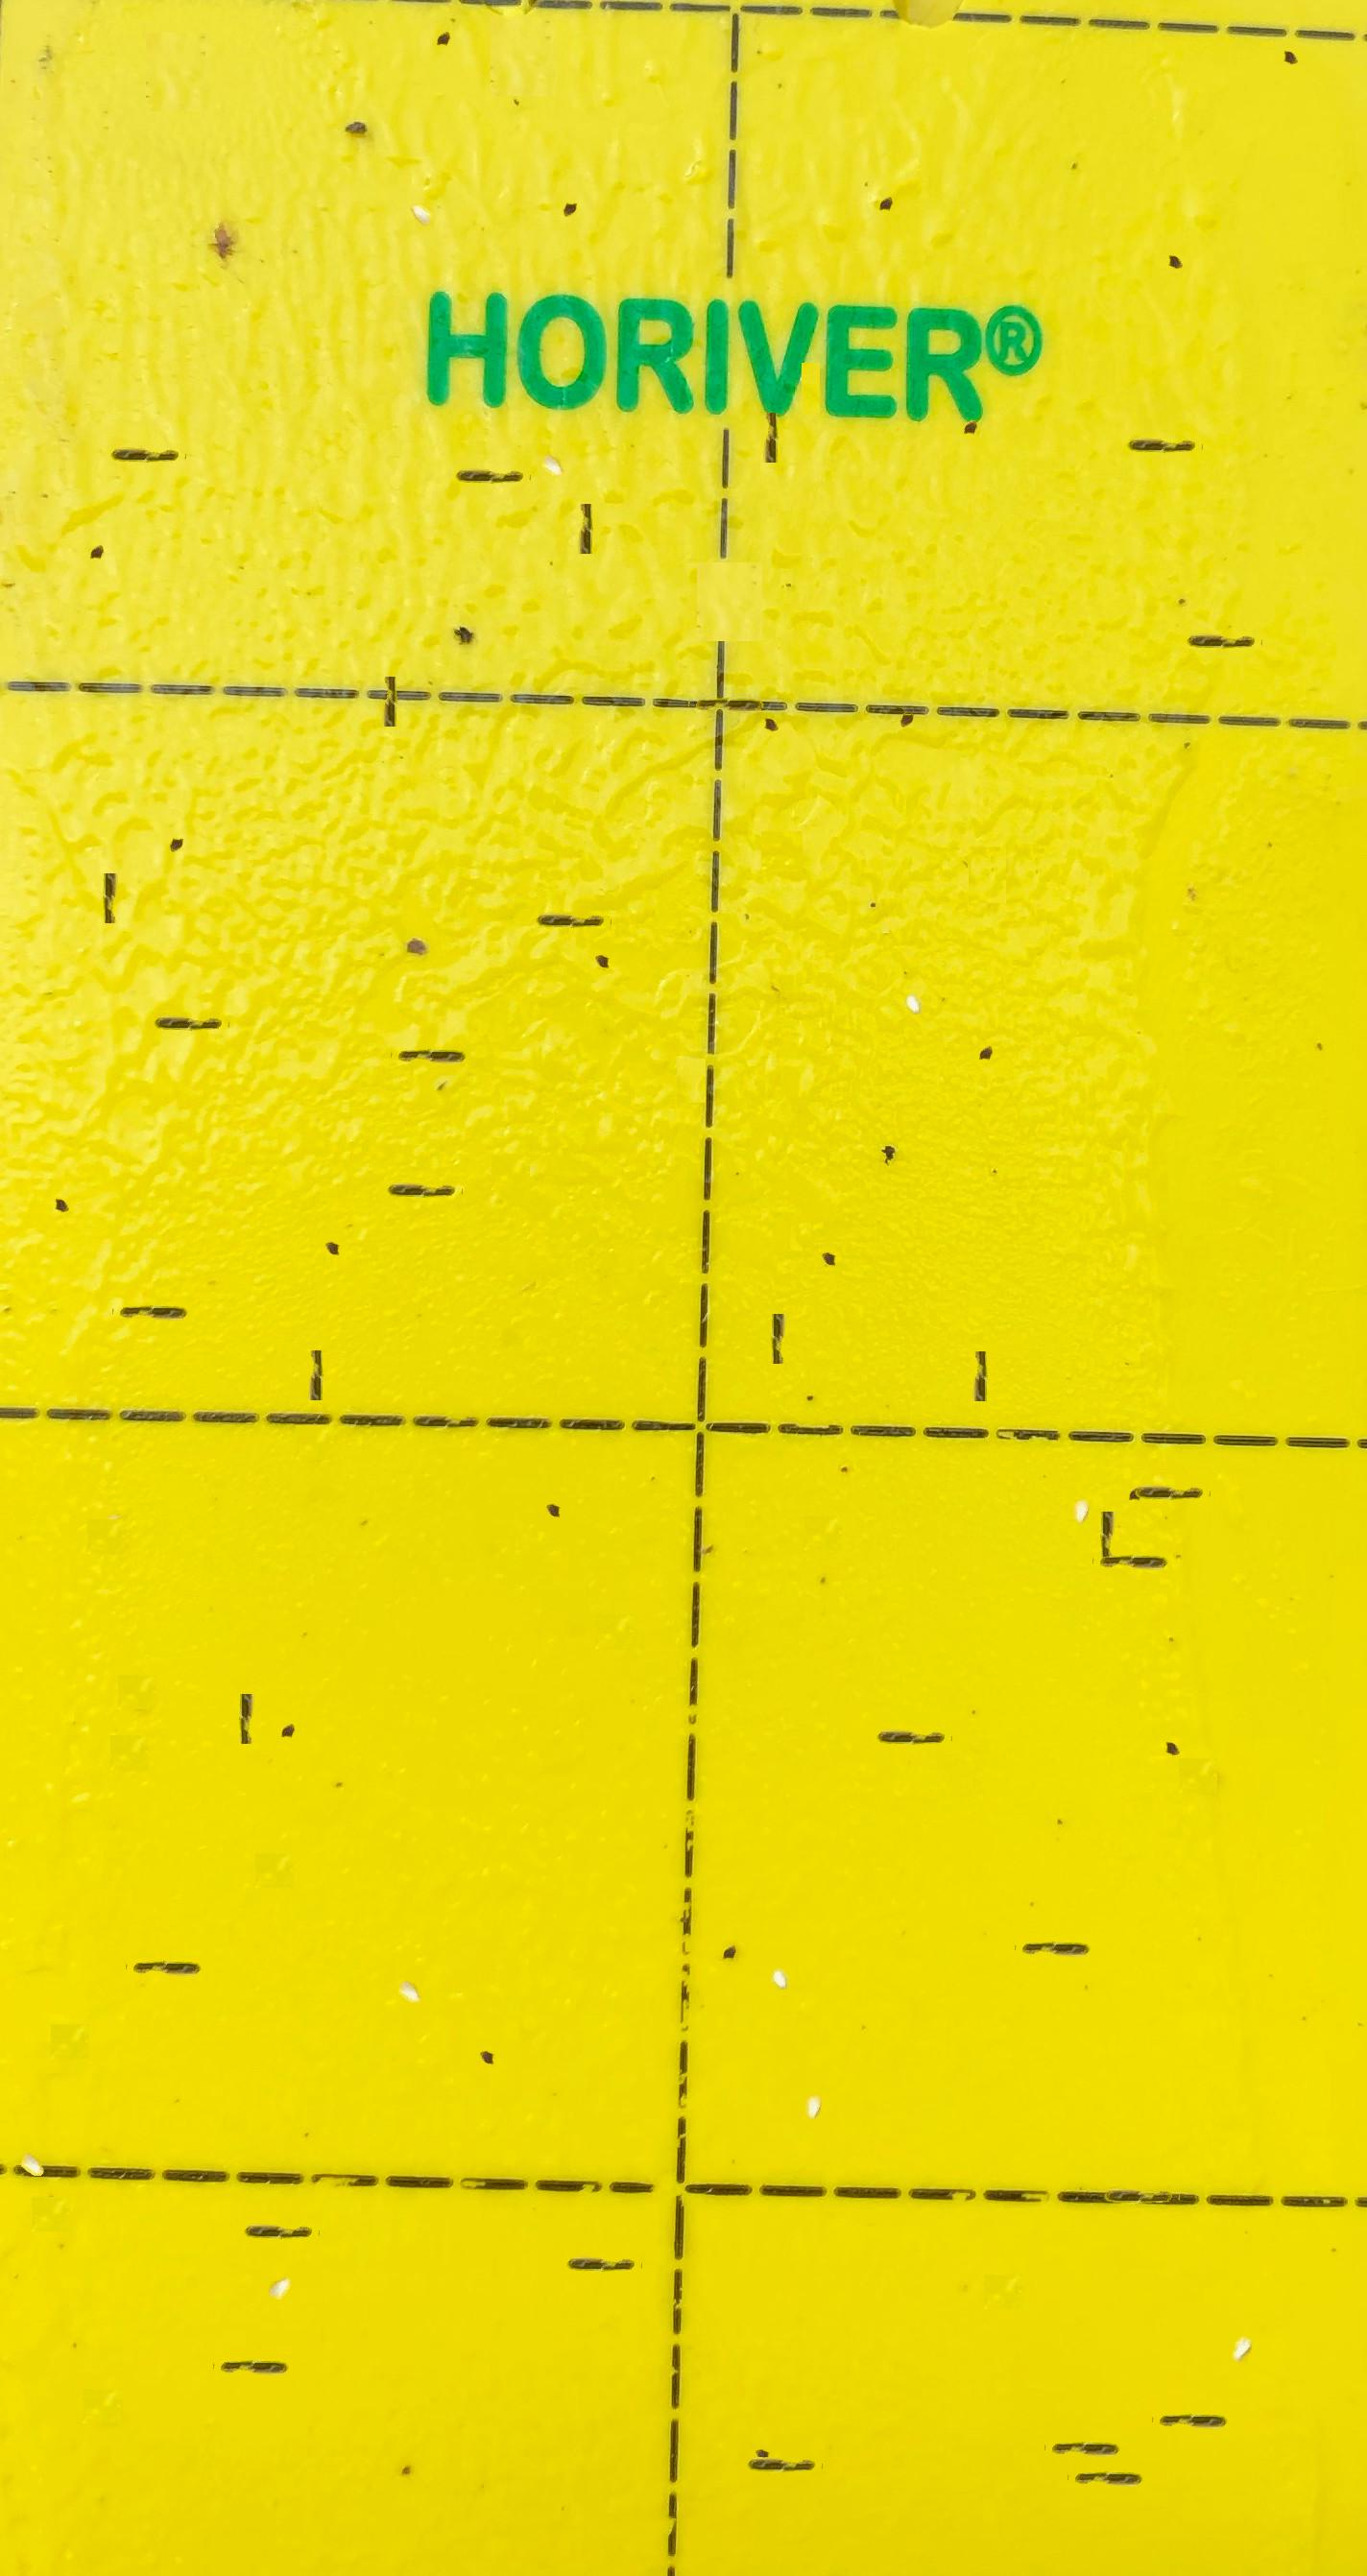white_fly: (893, 930, 936, 980), (758, 1906, 801, 1954), (1219, 2278, 1261, 2324), (401, 150, 443, 194), (530, 400, 573, 443), (10, 2099, 53, 2142), (259, 2225, 300, 2268), (389, 1927, 430, 1969), (1062, 1453, 1105, 1491), (794, 2050, 837, 2087)
